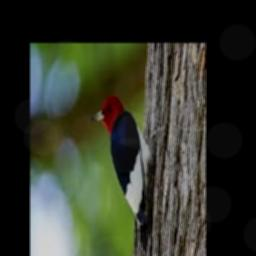Woodpecker: (91, 95, 159, 251)
